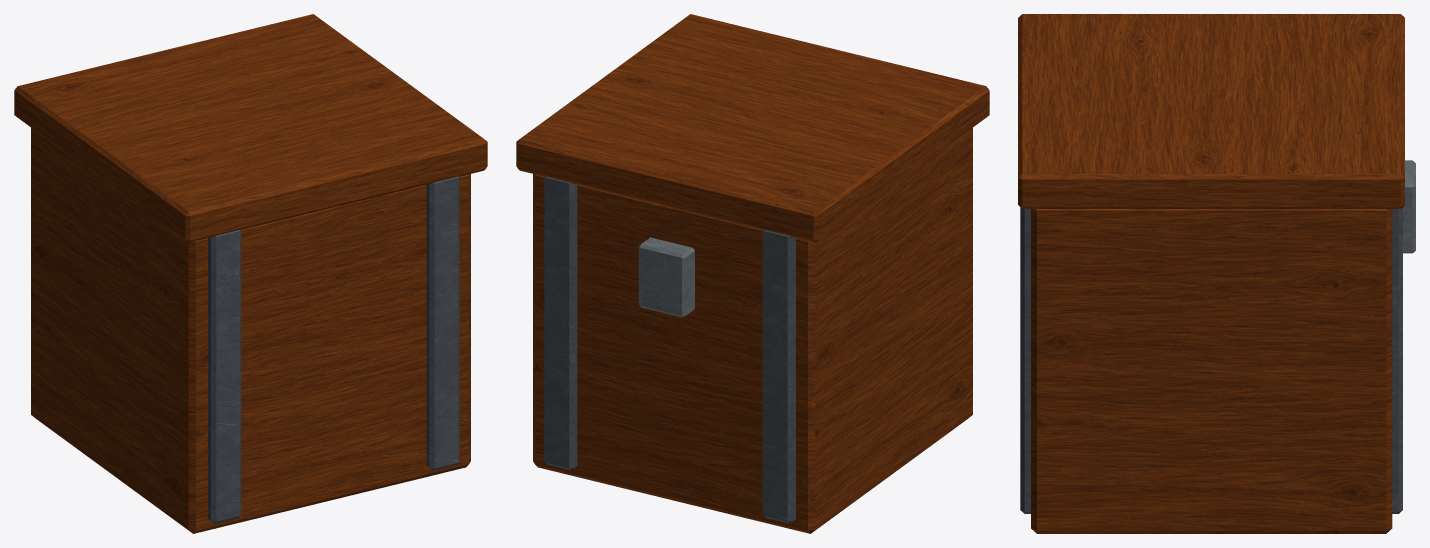
Rendered from train_cargo.gltf.
The picture shows the model from 3 angles, left to right: view 1: azimuth 30°, elevation 25°; view 2: azimuth 150°, elevation 25°; view 3: azimuth 270°, elevation 25°; orthographic projection. The views are drawn at different scales.
Size of the model in its own units: 0.9 by 0.94 by 0.925.
Materials: 3 (3 with a texture image).
